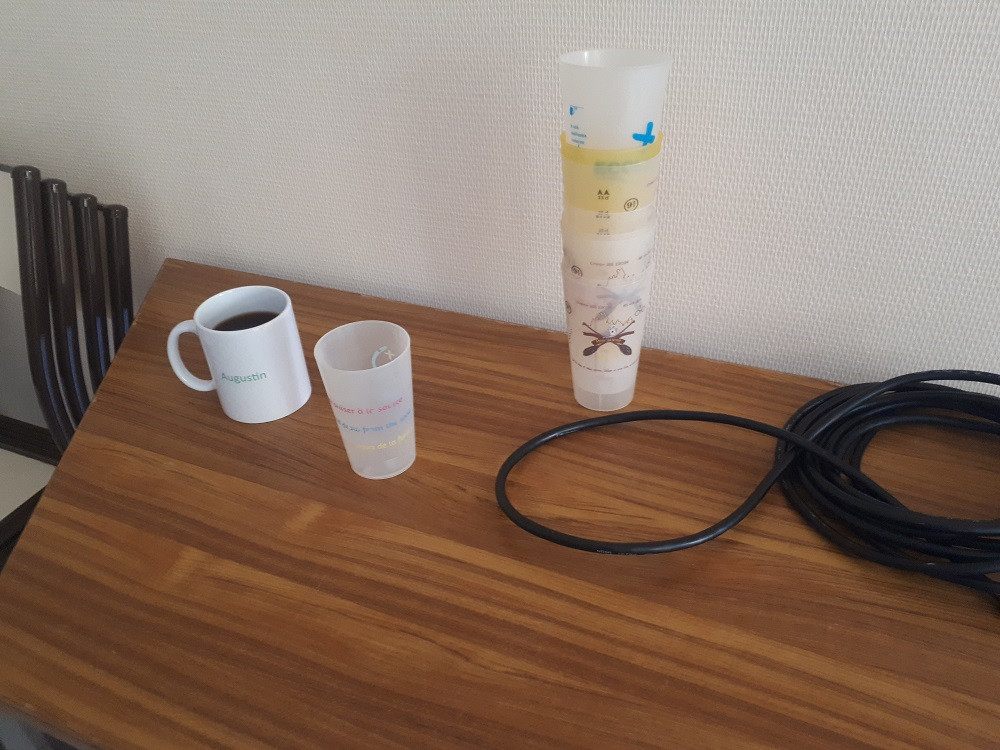ecocup: (556, 47, 671, 240), (555, 125, 667, 301), (554, 210, 657, 396), (560, 173, 664, 357), (311, 319, 417, 480), (559, 249, 657, 413)
